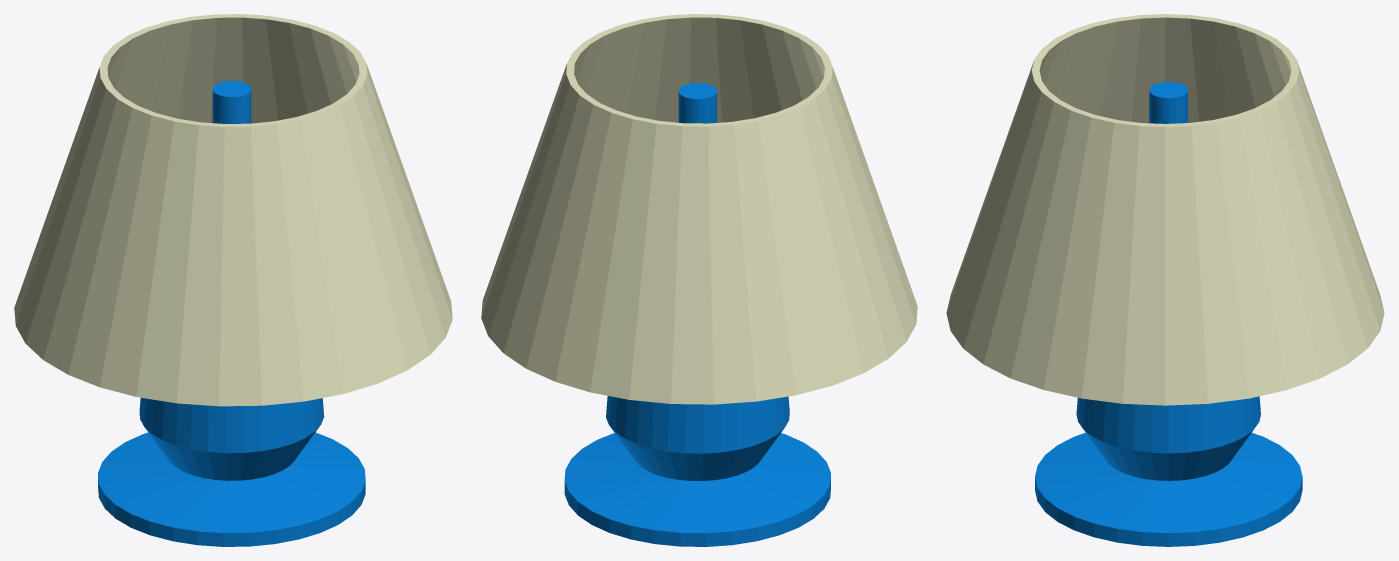
Rendered from Lamp.fbx.
The picture shows the model from 3 angles, left to right: view 1: azimuth 30°, elevation 25°; view 2: azimuth 150°, elevation 25°; view 3: azimuth 270°, elevation 25°; orthographic projection.
Parts seen in each view (by area): view 1: Cylinder.002, Cylinder; view 2: Cylinder.002, Cylinder; view 3: Cylinder.002, Cylinder.
Boxes of the visible parts, x1,y1,x2,y2 form: Cylinder.002: [14, 14, 452, 406]; Cylinder: [98, 80, 365, 546]; Cylinder.002: [481, 14, 917, 404]; Cylinder: [564, 83, 830, 546]; Cylinder.002: [946, 14, 1384, 405]; Cylinder: [1035, 82, 1302, 546].
Size of the model in its own units: 328 by 346 by 328.
